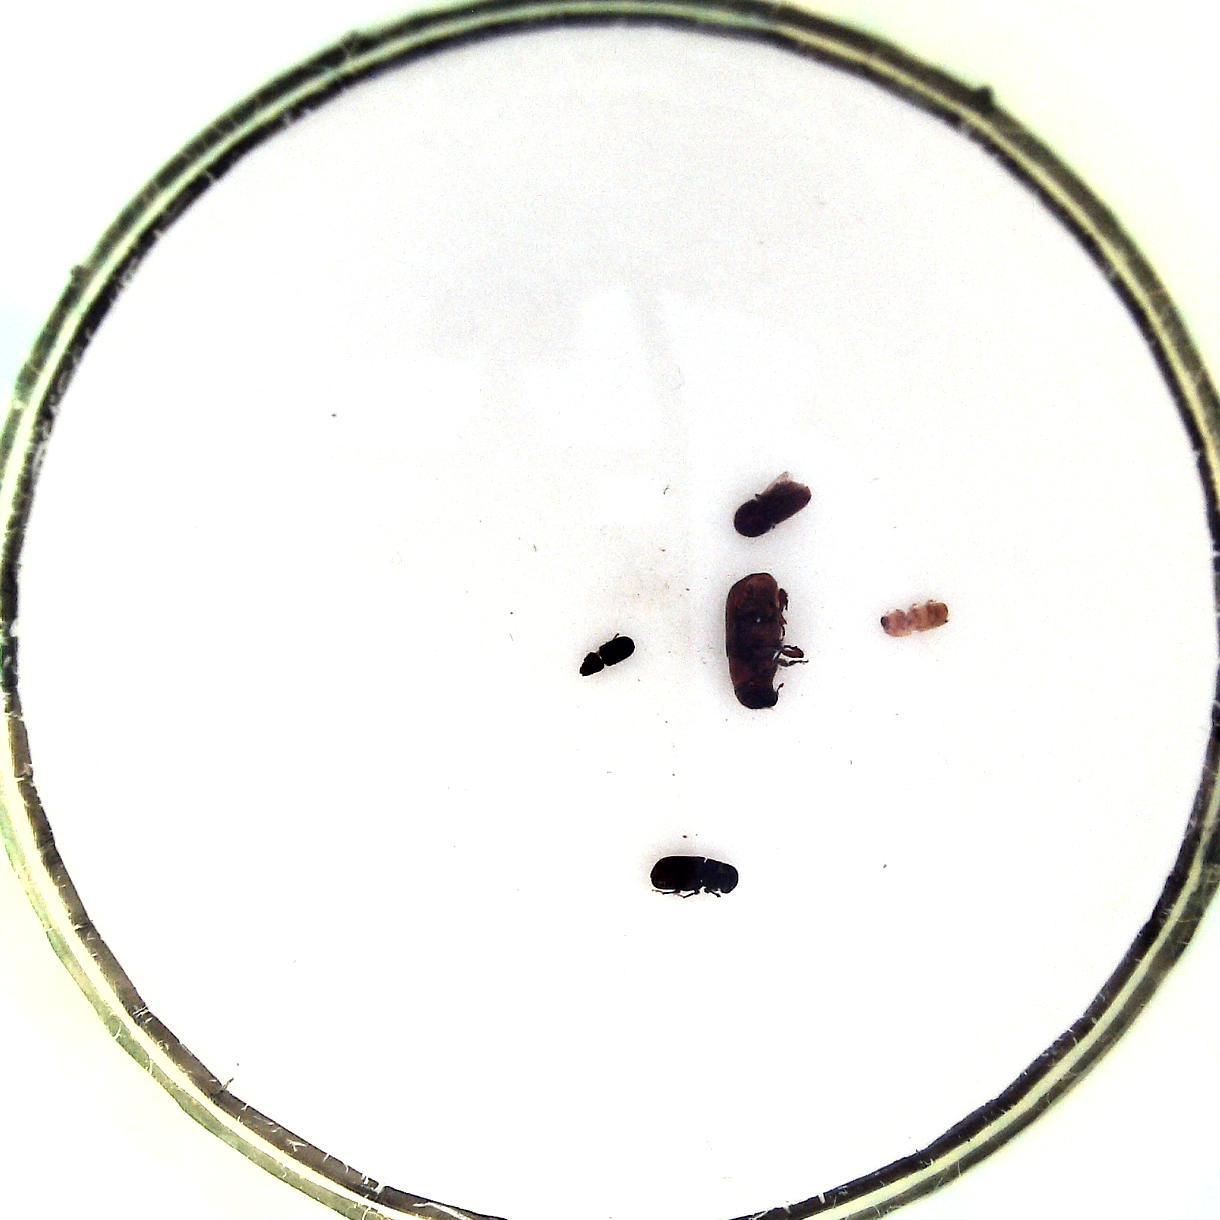Leconte: (722, 570, 806, 711)
Linnaeus: (725, 467, 814, 540)
acuminatus: (876, 594, 951, 639)
armandi: (645, 849, 742, 900)
coleoptera: (574, 631, 640, 678)
